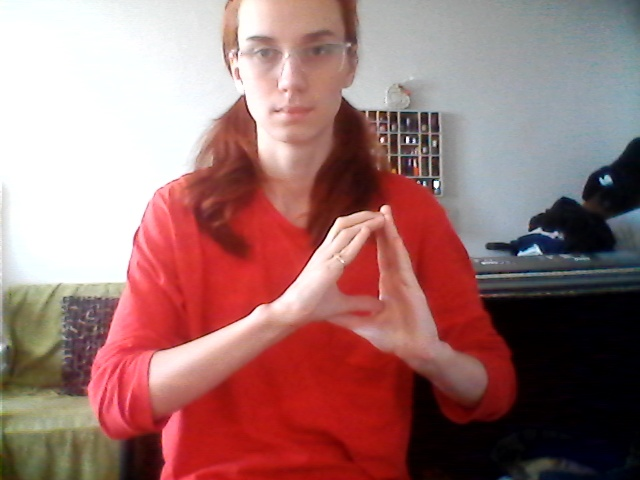d: (294, 201, 435, 370)
